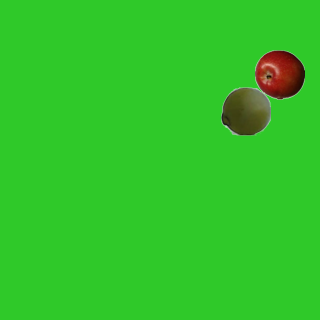Apple Braeburn: (254, 49, 304, 99)
Grape White 4: (220, 85, 270, 135)
